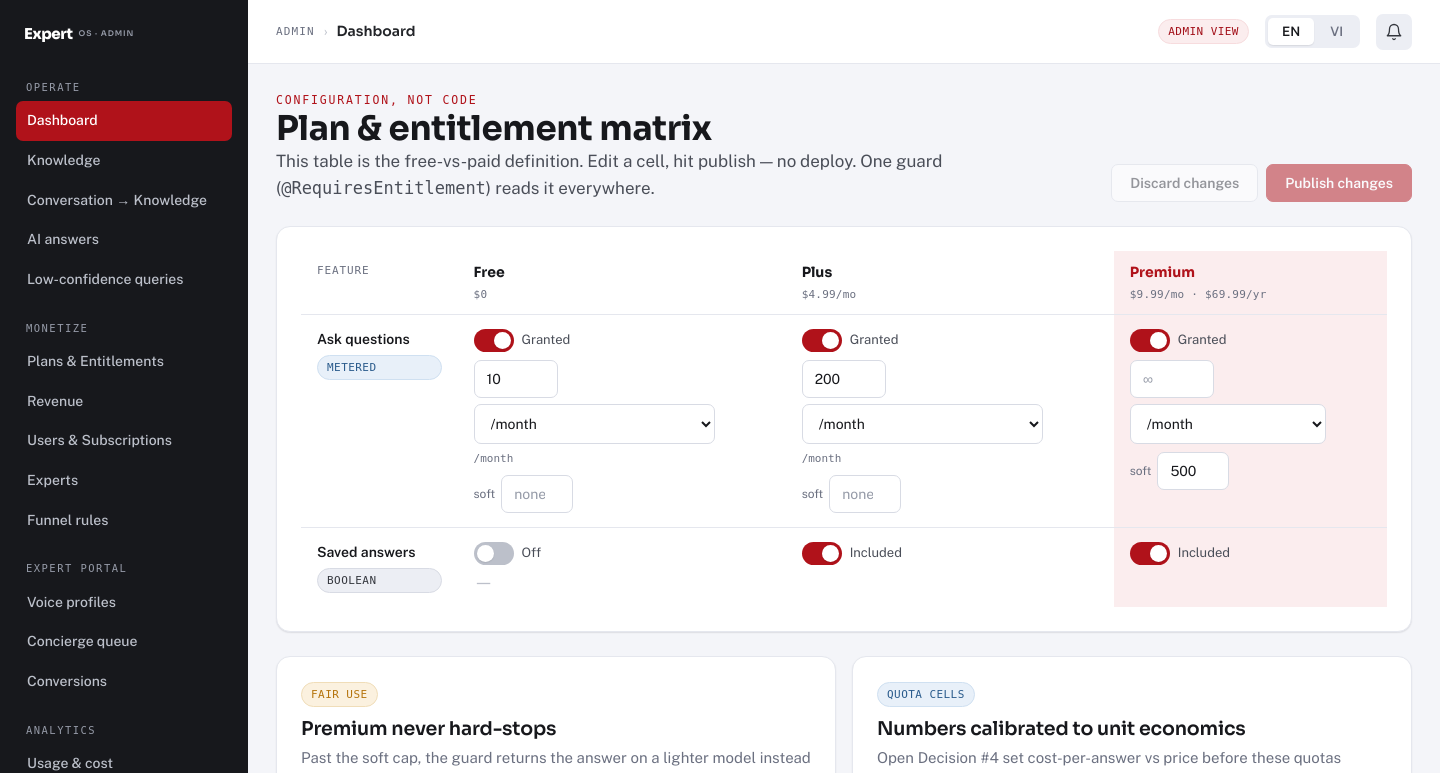
Test case: EntitlementsPage — metered validation › blocks publish and surfaces the limits error for a non-integer hard limit
expect the text "Ask questions" is shown: met, box [317, 331, 410, 347]
Replace the text in the 2nd number field named "Ask questions hard limit" with "1.5" at x=844, y=379, box [802, 360, 886, 398]
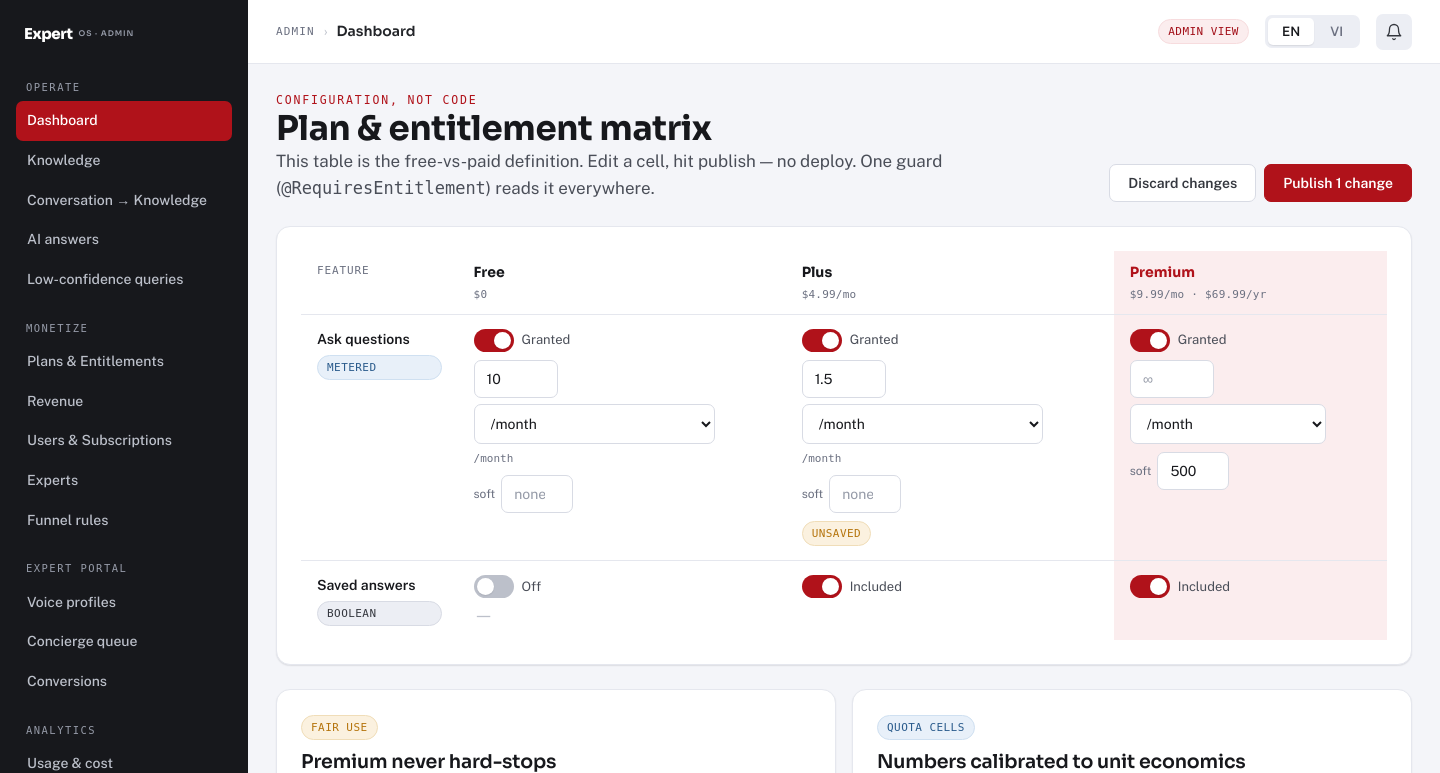
Click the button "Publish 1 change" at x=1338, y=183, box [1264, 164, 1412, 202]
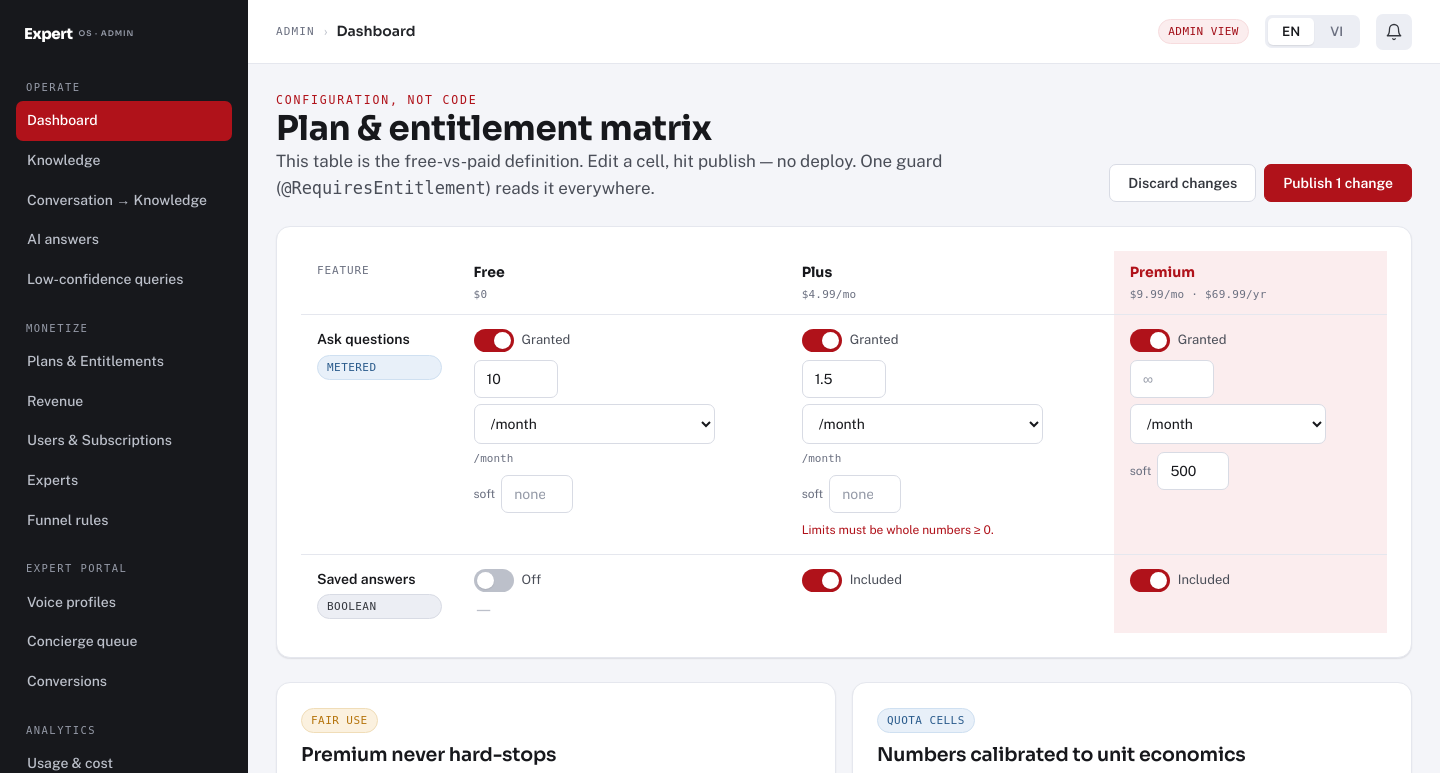
expect the text "Limits must be whole numbers ≥ 0." is shown: met, box [802, 521, 994, 540]
